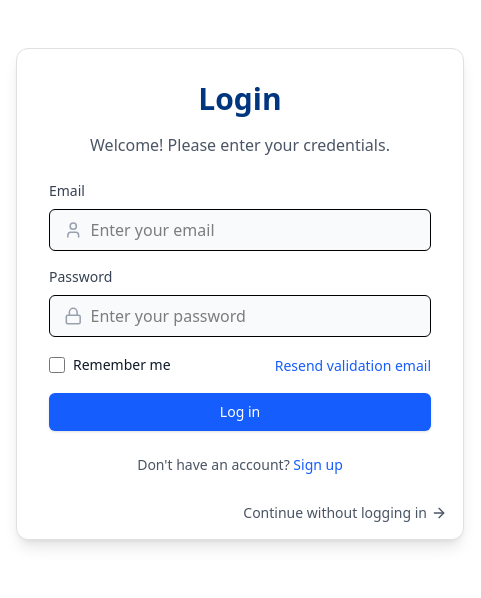
Test case: Login Component › should display an error message when the password is too weak
Type "test@example.com" into the field with placeholder "Enter your email" at coordinates (253, 230), box [90, 218, 416, 242]
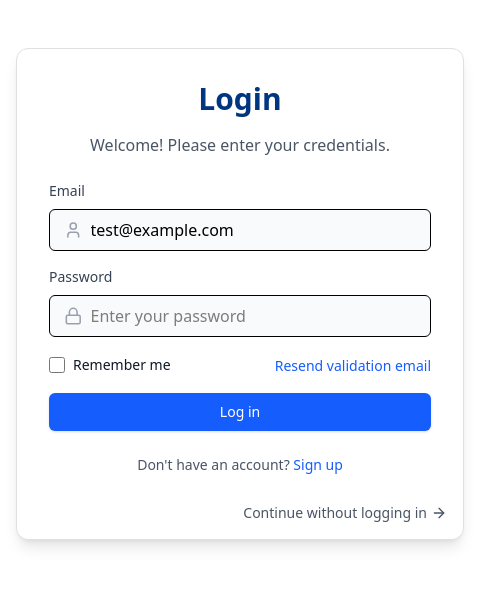
Type "weak" into the password field with placeholder "Enter your password" at coordinates (253, 316), box [90, 304, 416, 328]
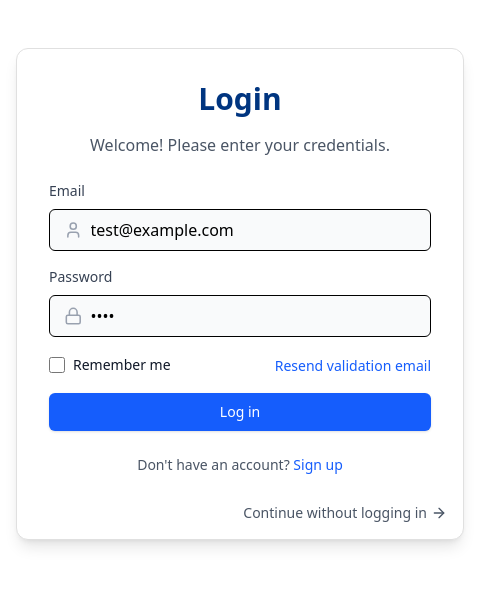
Click the button "Log in" at coordinates (240, 412), box [49, 393, 431, 431]
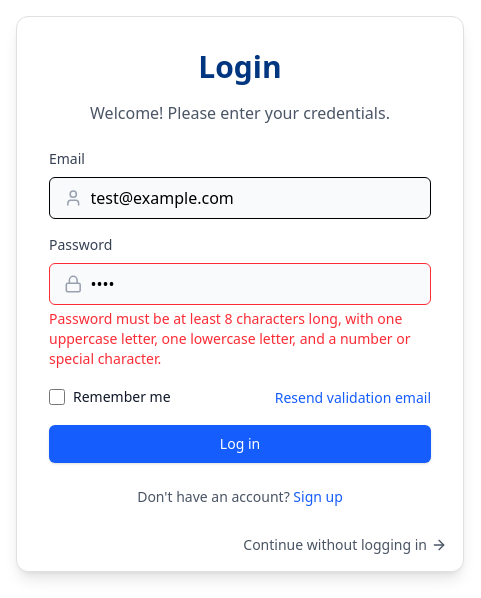
Expected: the text "Password must be at least 8 characters long" is shown, [49, 309, 410, 368]
